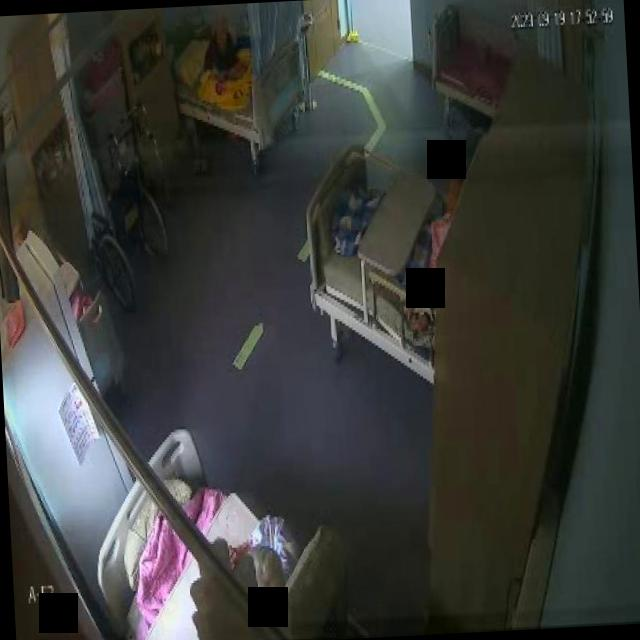bed: (89, 418, 343, 640), (305, 142, 461, 377), (173, 21, 309, 146), (427, 0, 515, 119)
